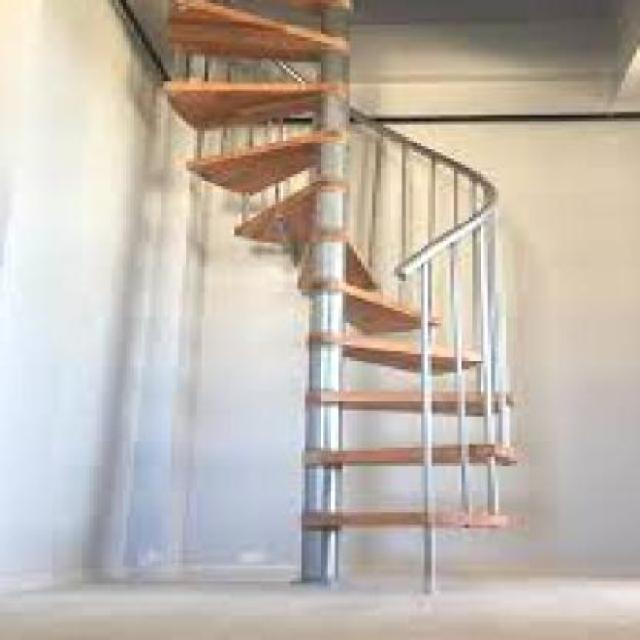stair: (138, 0, 540, 582)
